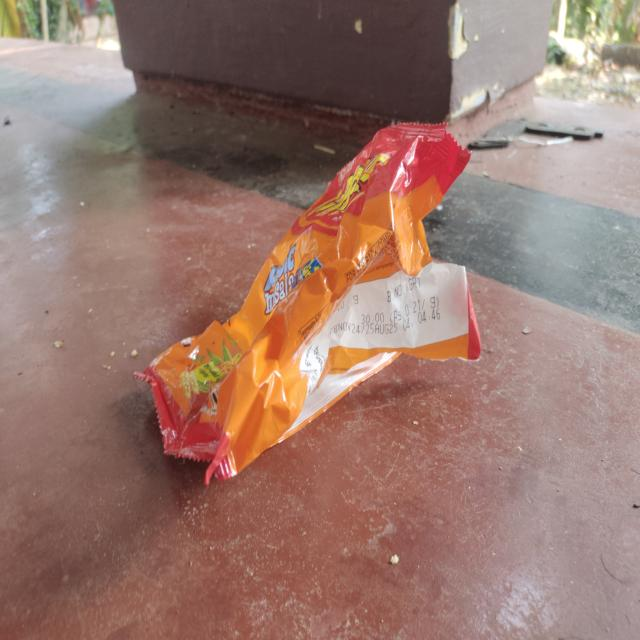plastic: (130, 116, 483, 484)
